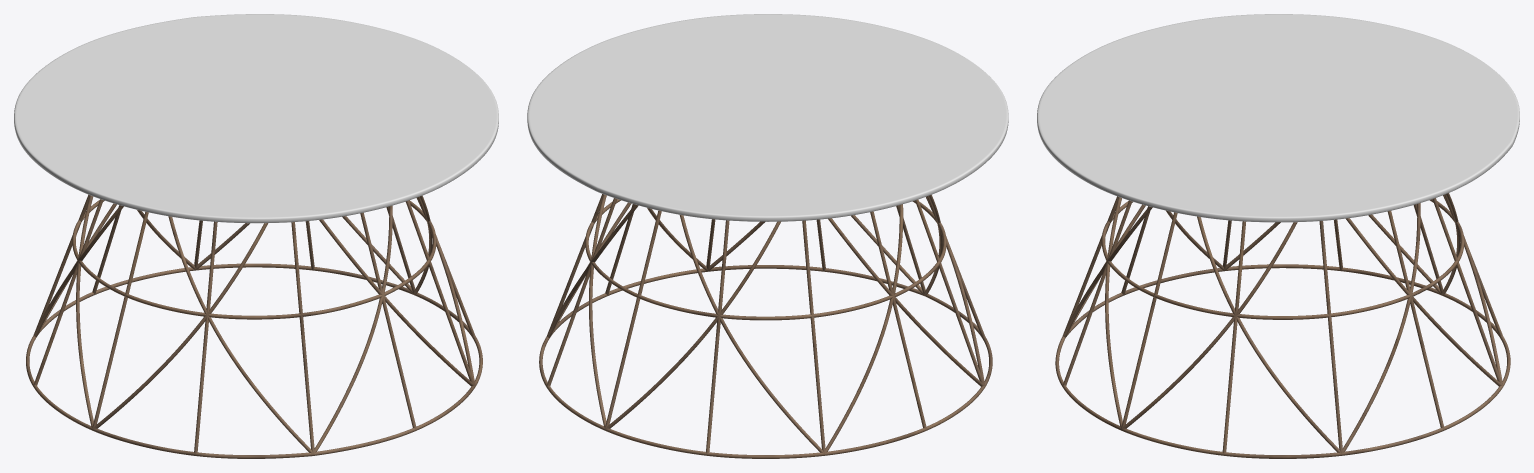
Rendered from wire_coffee_table.gltf.
The picture shows the model from 3 angles, left to right: view 1: azimuth 30°, elevation 25°; view 2: azimuth 150°, elevation 25°; view 3: azimuth 270°, elevation 25°; orthographic projection.
Visible parts, largest first — view 1: WireCoffeeTable; view 2: WireCoffeeTable; view 3: WireCoffeeTable.
Boxes of the visible parts, <box> form: WireCoffeeTable: <box>14,14,498,458</box>; WireCoffeeTable: <box>527,14,1008,458</box>; WireCoffeeTable: <box>1037,14,1519,458</box>.
Size of the model in its own units: 0.5521 by 0.3125 by 0.5521.
Materials: 1 (1 with a texture image).
